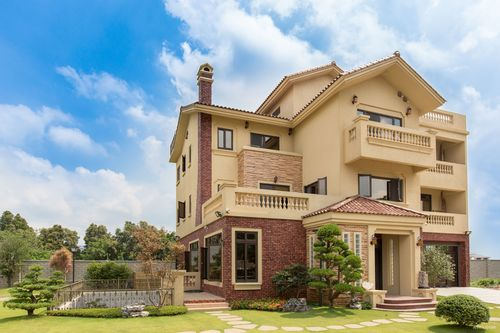buildings: (160, 64, 463, 296)
